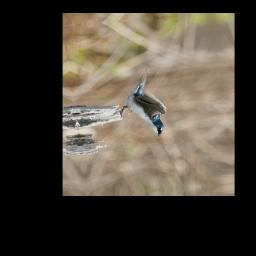Swallow: (113, 67, 171, 141)
